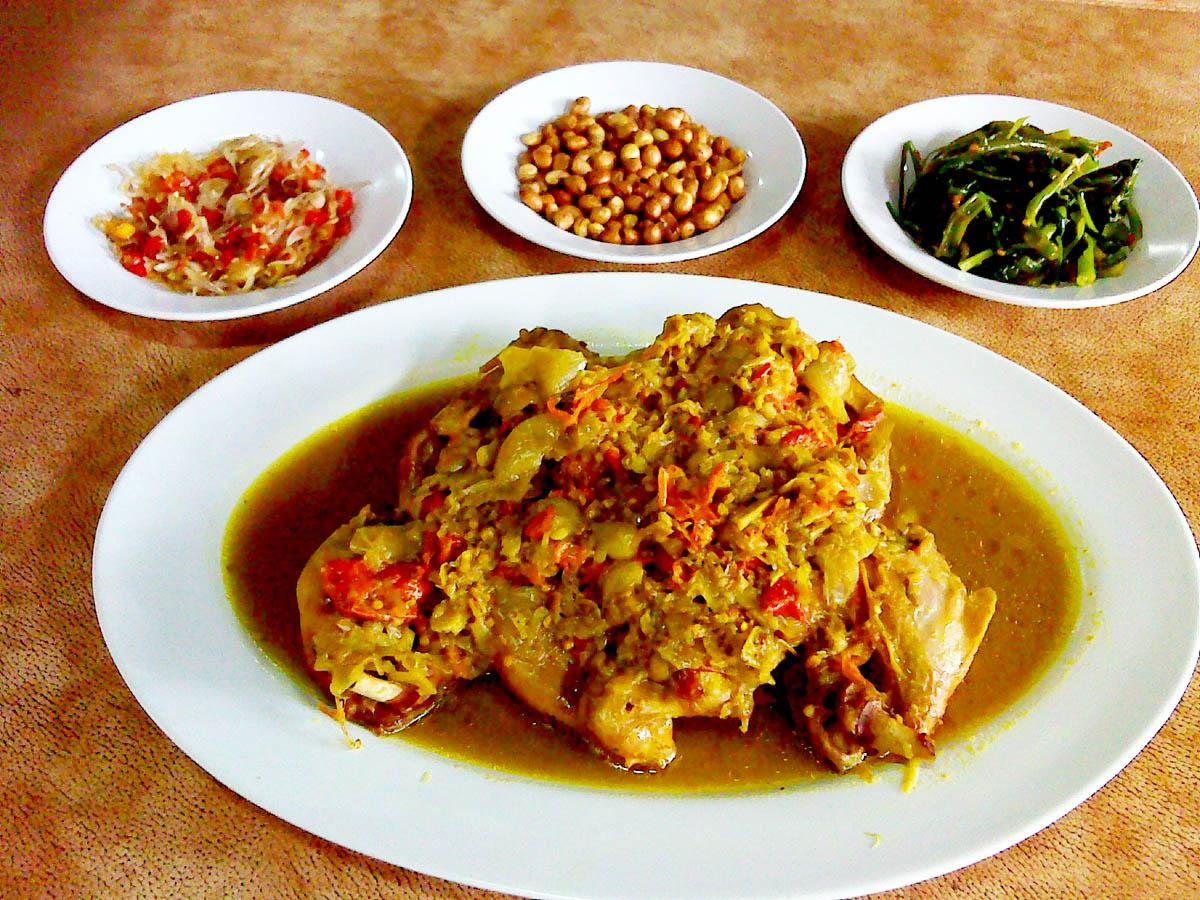ayam_betutu: (295, 309, 999, 784)
